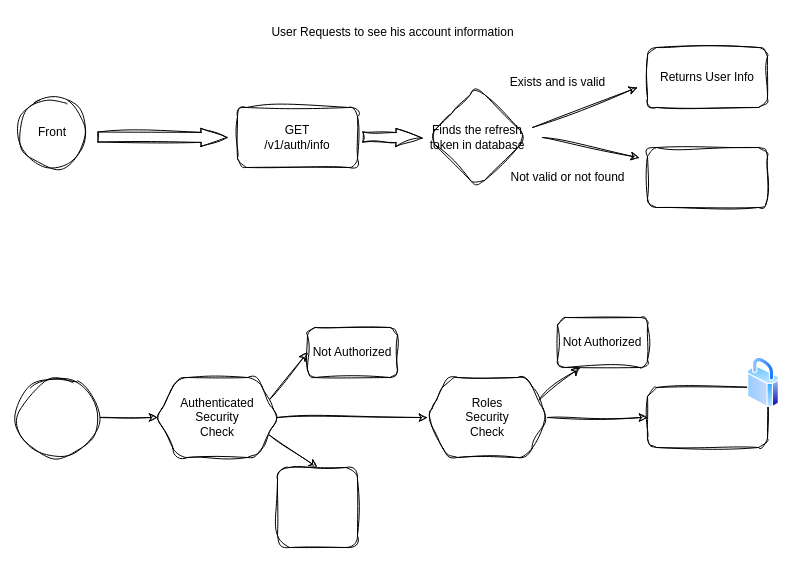
Image size: 797x565. Some labels were removed from this diagram. Here are the shapes that lost their labels. From the top down, the centre of each, then its label:
At (x=707, y=177): "Returns not authenticated".
At (x=57, y=417): "Request".
At (x=707, y=417): "GET /list/admins".
At (x=317, y=507): "Saves the user info into IHttpContext".
